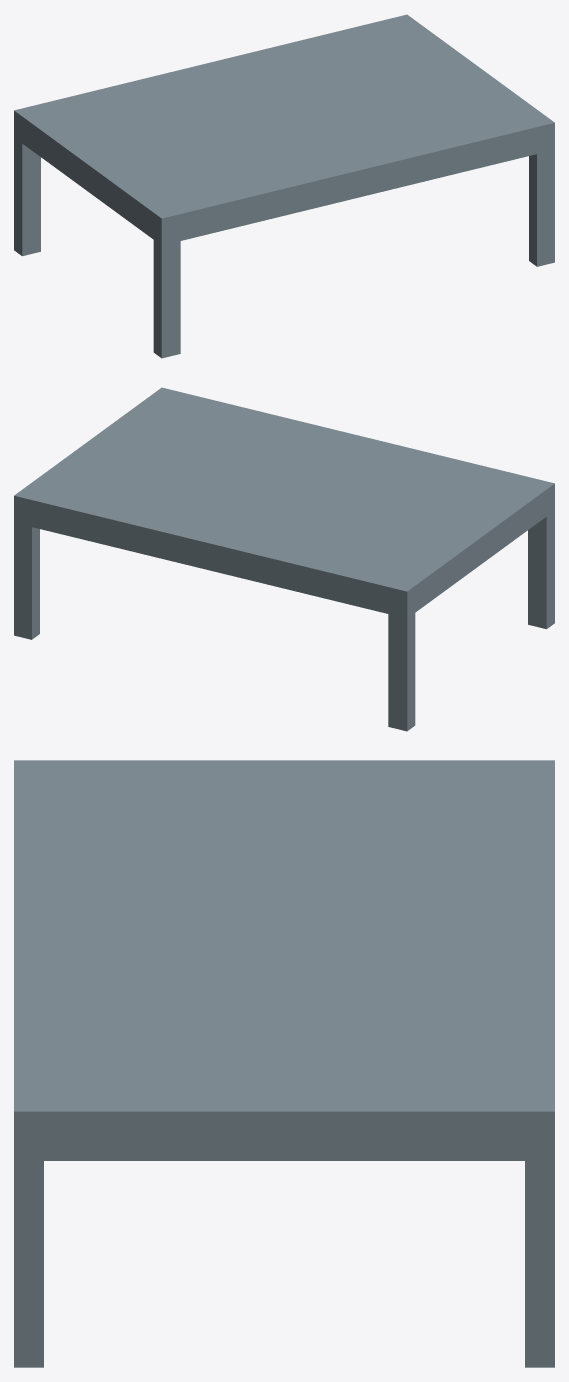
The model's file is Table1.fbx.
The picture shows the model from 3 angles, top to bottom: view 1: azimuth 30°, elevation 25°; view 2: azimuth 150°, elevation 25°; view 3: azimuth 270°, elevation 25°; orthographic projection. The views are drawn at different scales.
Visible parts, largest first — view 1: Table; view 2: Table; view 3: Table.
Boxes of the visible parts, left/top/right/bottom form: Table: left=14, top=14, right=554, bottom=358; Table: left=14, top=387, right=554, bottom=731; Table: left=14, top=760, right=554, bottom=1367.
Size of the model in its own units: 103 by 67.32 by 35.15.
Materials: 1 (1 with a texture image).
